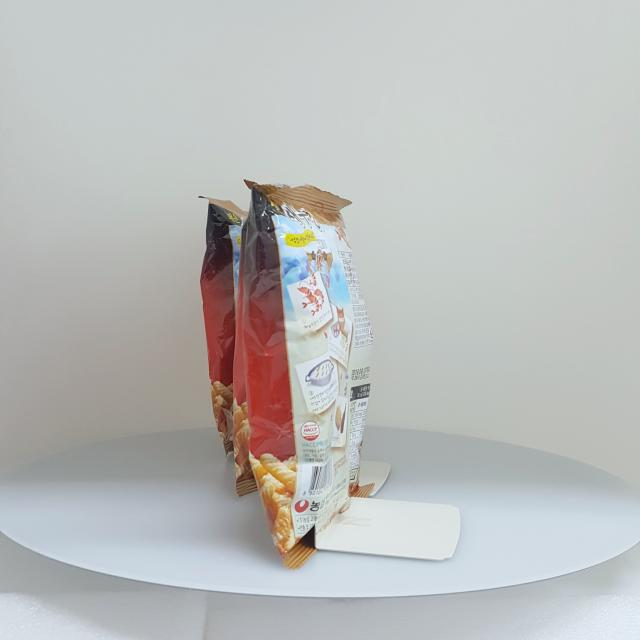-90G: (242, 180, 375, 570)
